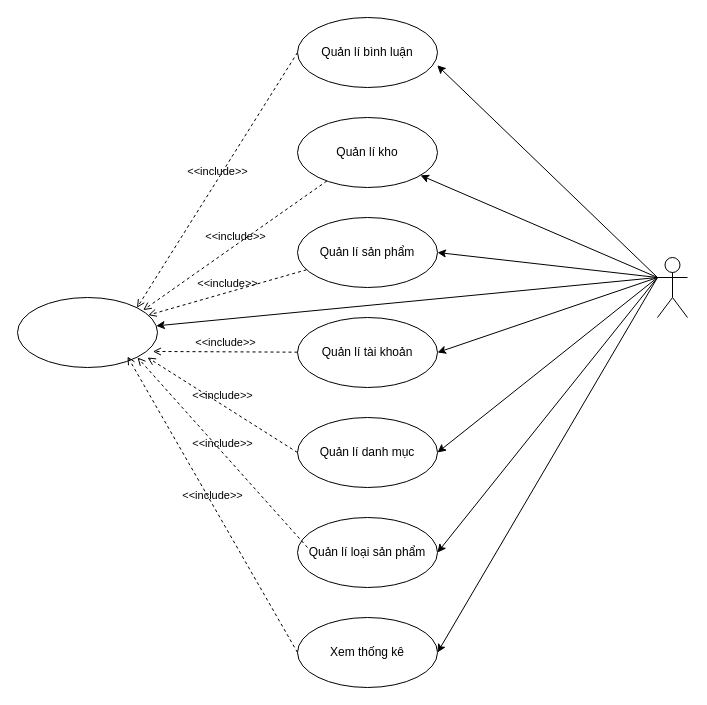
This 707x705 diagram has some shape labels left out. The centre of each missing label's shape, as x and y in pixels:
Admin: (x=672, y=287)
Đăng nhập: (x=87, y=332)
